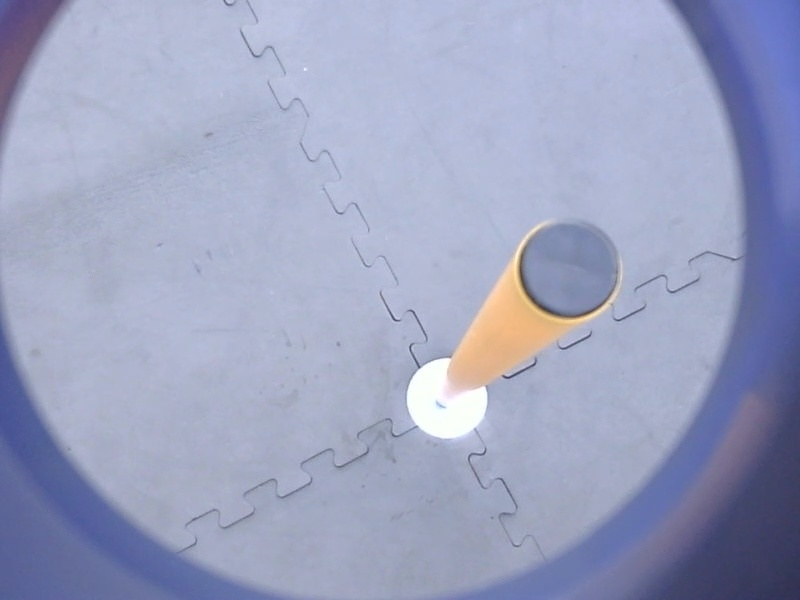tip: (505, 211, 629, 327)
